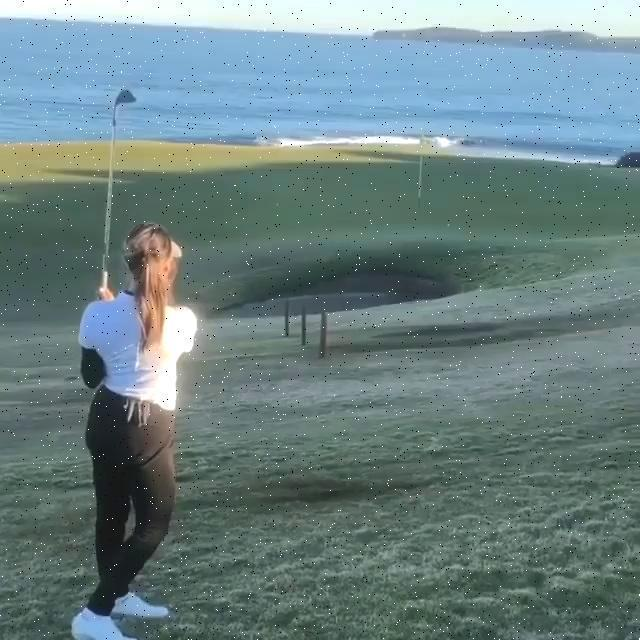ClubHead: (113, 86, 139, 107)
